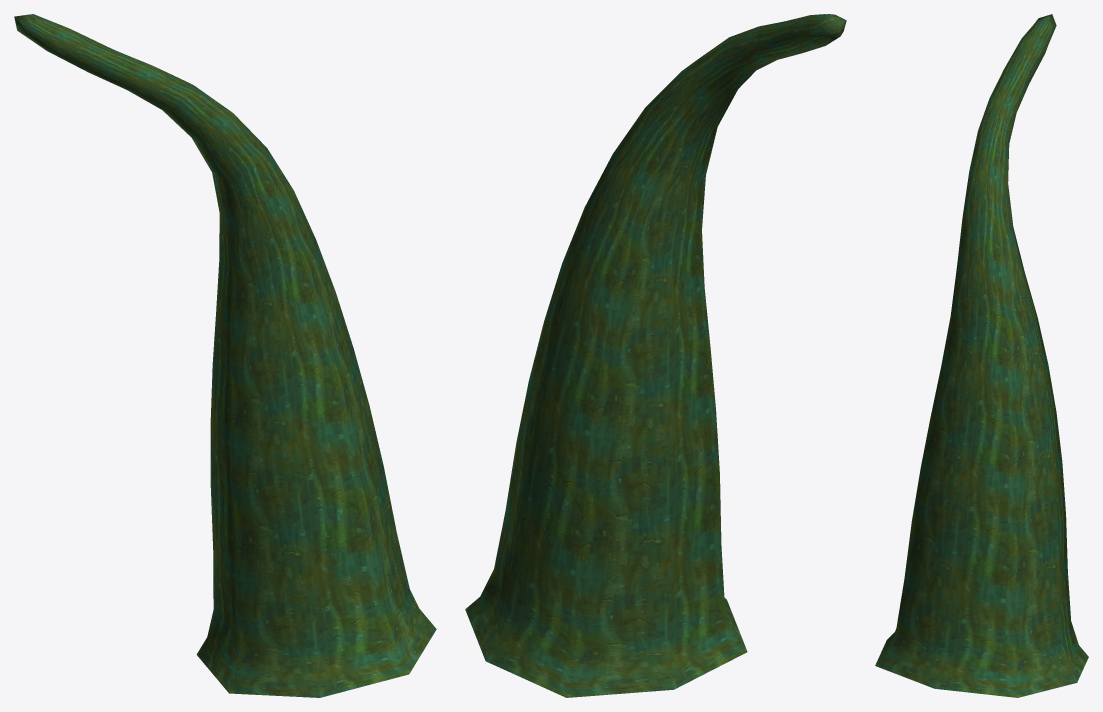
The model's file is MIRKWOOD_MIRK_PLAYSURFACE196.fbx.
3 views of the same model, side by side, from view 1: azimuth 30°, elevation 25°; view 2: azimuth 150°, elevation 25°; view 3: azimuth 270°, elevation 25° (orthographic). The views are drawn at different scales.
Parts seen in each view (by area): view 1: MIRKWOOD_MIRK_PLAYSURFACE196; view 2: MIRKWOOD_MIRK_PLAYSURFACE196; view 3: MIRKWOOD_MIRK_PLAYSURFACE196.
Part boxes in pixels (left/top/right/bottom): MIRKWOOD_MIRK_PLAYSURFACE196: left=14, top=14, right=436, bottom=697; MIRKWOOD_MIRK_PLAYSURFACE196: left=465, top=14, right=846, bottom=697; MIRKWOOD_MIRK_PLAYSURFACE196: left=875, top=14, right=1088, bottom=697.
Size of the model in its own units: 117154 by 203587 by 71234.
1 material, 1 textured.
